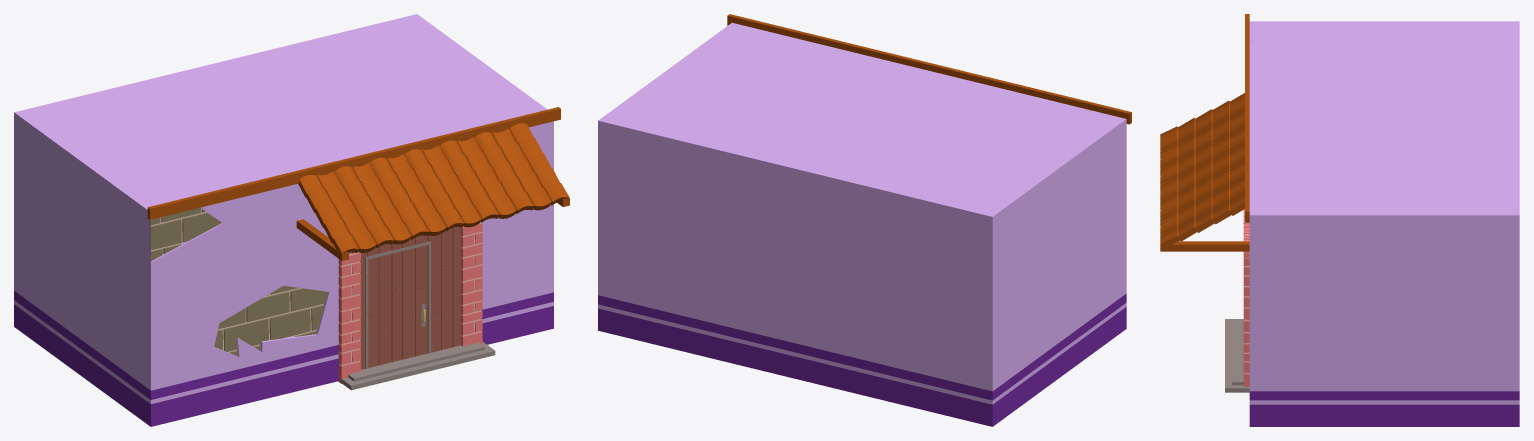
Rendered from HGO_HDO_CASA_ROSA.fbx.
3 renders of one model, left to right at view 1: azimuth 30°, elevation 25°; view 2: azimuth 150°, elevation 25°; view 3: azimuth 270°, elevation 25°, orthographic. The views are drawn at different scales.
Visible parts, largest first — view 1: HGO_HDO_CASA02_LOD0; view 2: HGO_HDO_CASA02_LOD0; view 3: HGO_HDO_CASA02_LOD0.
Part boxes in pixels (x1,y1,x2,y2): HGO_HDO_CASA02_LOD0: (14, 14, 569, 426); HGO_HDO_CASA02_LOD0: (598, 14, 1131, 426); HGO_HDO_CASA02_LOD0: (1160, 14, 1519, 426).
Size of what is drawn, in the model's own units: 603 by 310 by 463.
